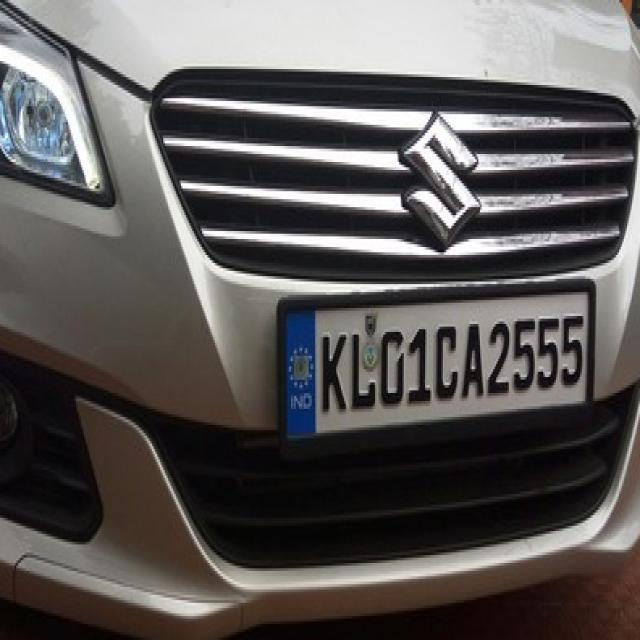license_plate: (278, 297, 590, 425)
